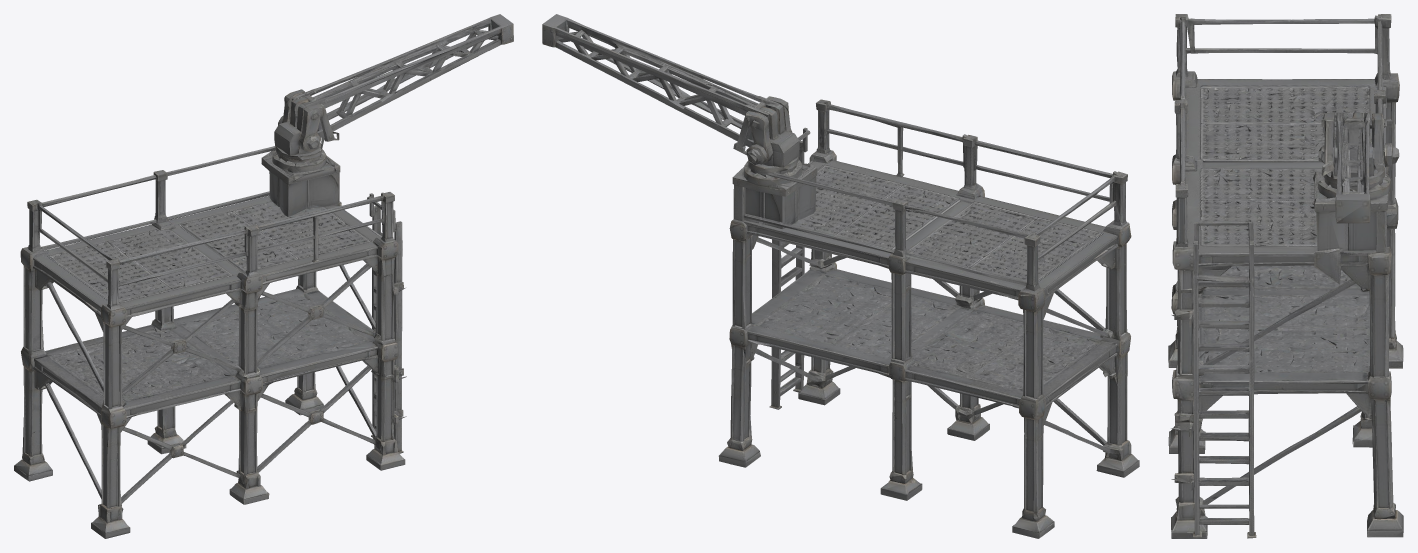
The model's file is shared_construction_scaffold_kit.glb.
3 views of the same model, side by side, from view 1: azimuth 30°, elevation 25°; view 2: azimuth 150°, elevation 25°; view 3: azimuth 270°, elevation 25° (orthographic). The views are drawn at different scales.
Parts seen in each view (by area): view 1: mesh_node; view 2: mesh_node; view 3: mesh_node.
Boxes of the visible parts, x1,y1,x2,y2 form: mesh_node: (14, 14, 513, 538); mesh_node: (542, 14, 1139, 538); mesh_node: (1168, 14, 1403, 538).
Bounding box in the file's own units: 9.47 × 6.71 × 3.19.
1 material, 1 textured.
